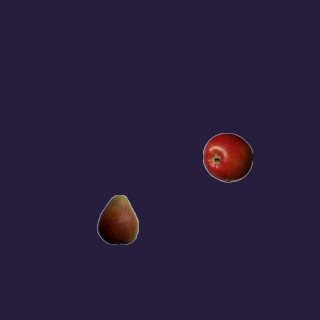Apple Braeburn: (202, 132, 252, 182)
Pear Forelle: (92, 194, 142, 244)
